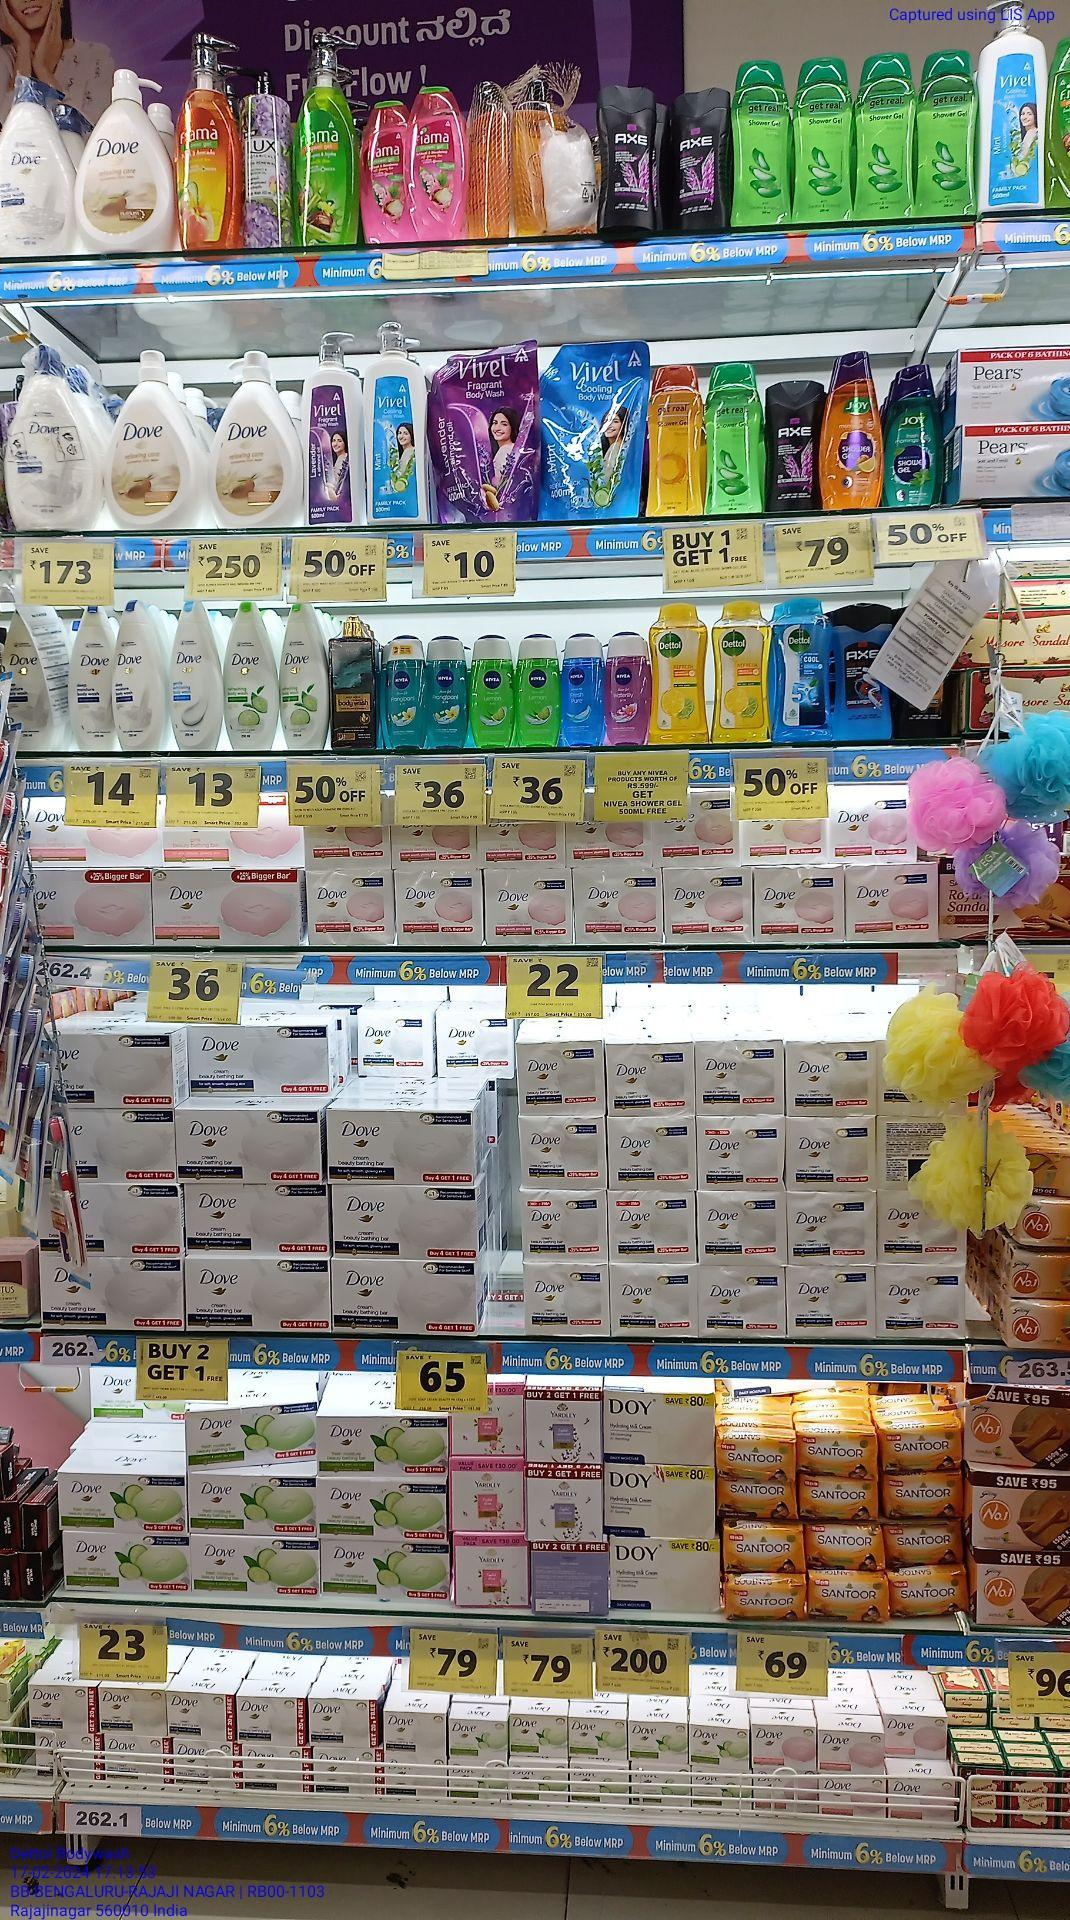Dettol_Bodywash_Cool: (774, 597, 833, 743)
Dettol_Bodywash_Refresh: (650, 604, 709, 746), (713, 601, 768, 743)
Dove_Deep_Moisture_Body_Wash_250ML: (117, 600, 165, 748), (70, 605, 116, 750)
Dove_Gentle_Exfoliating_Body_Wash_250ML: (169, 600, 225, 750)
Dove_Refreshing_Body_Wash_250ML: (227, 601, 279, 750), (283, 602, 329, 754)
Fiama_Shower_Gel_Patchouli_and_Macadamia_250ML: (406, 80, 468, 241), (354, 96, 403, 242)
Get_Real_Shower_Gel_Moisturising_Glycerin_300ML: (651, 362, 708, 517)
Joy_Shower_Gel_Mandarin_and_Lemongrass_250ML: (821, 349, 883, 506)
Joy_Shower_Gel_Mint_and_Eucalyptus_250ML: (887, 364, 938, 505)
Nivea_Shower_Gel_Frangipani_and_Oil_250ML: (383, 636, 427, 751), (428, 636, 468, 747)
Nivea_Shower_Gel_Lemon_and_Oil_250ML: (515, 634, 559, 748), (472, 635, 511, 750)
Nivea_Shower_Gel_Waterlily_and_Oil_250ML: (605, 633, 646, 745)
